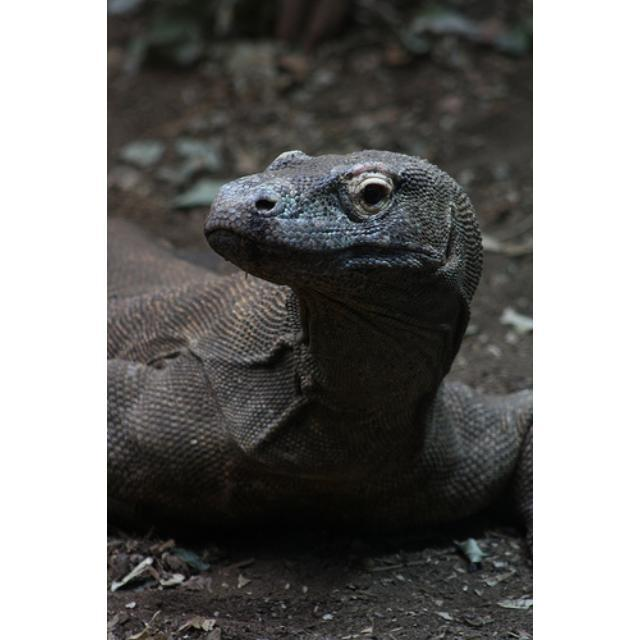KomodoDragon: (110, 140, 527, 568)
